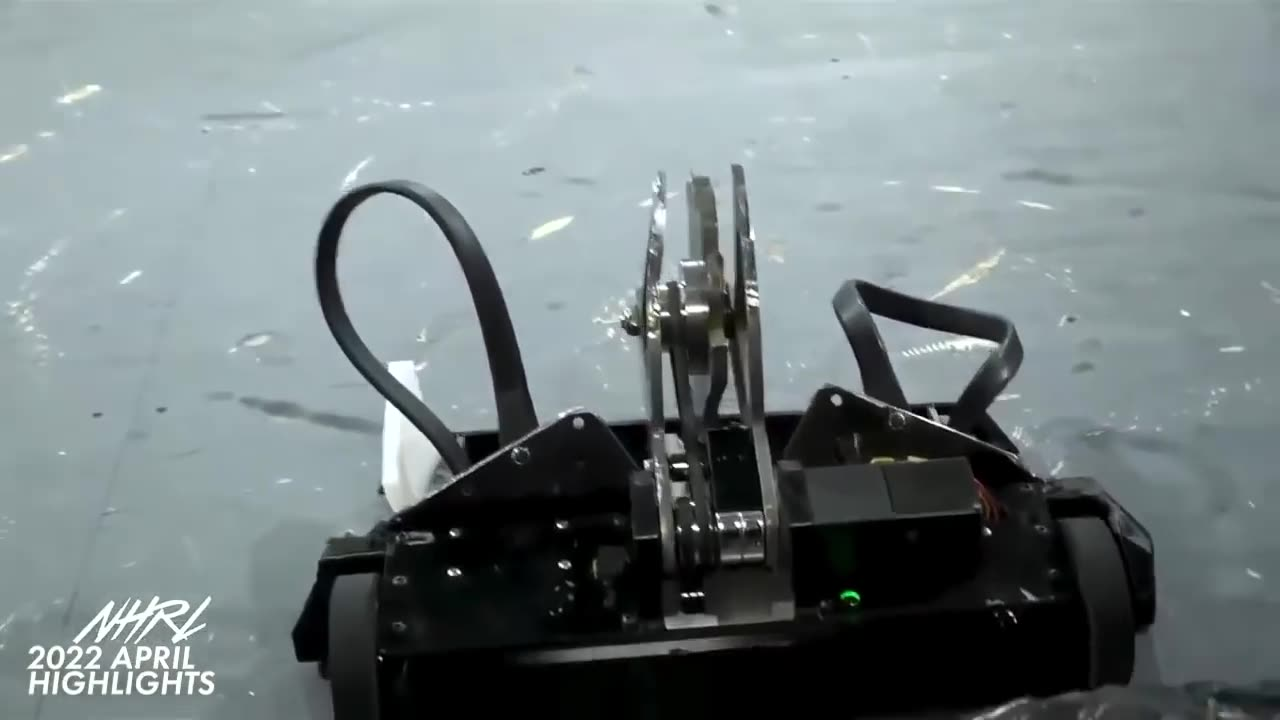combatbot: (288, 412, 1146, 718)
